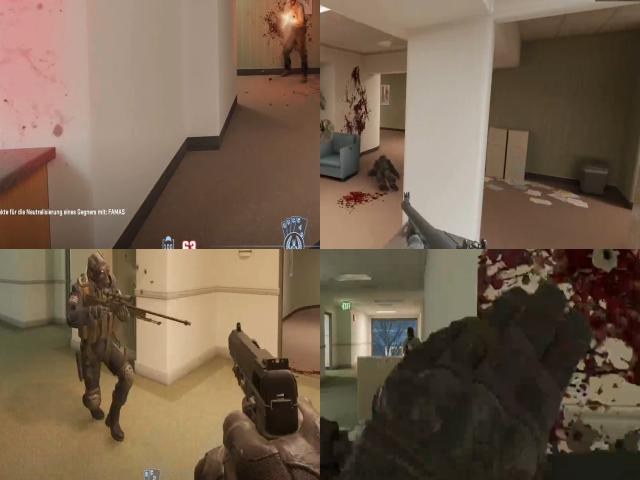CT: (74, 254, 122, 407)
CT-Head: (80, 249, 115, 291)
Dead: (375, 148, 400, 209)
T: (278, 0, 312, 53), (405, 339, 420, 353)
T-Head: (405, 323, 419, 343), (286, 0, 300, 13)
